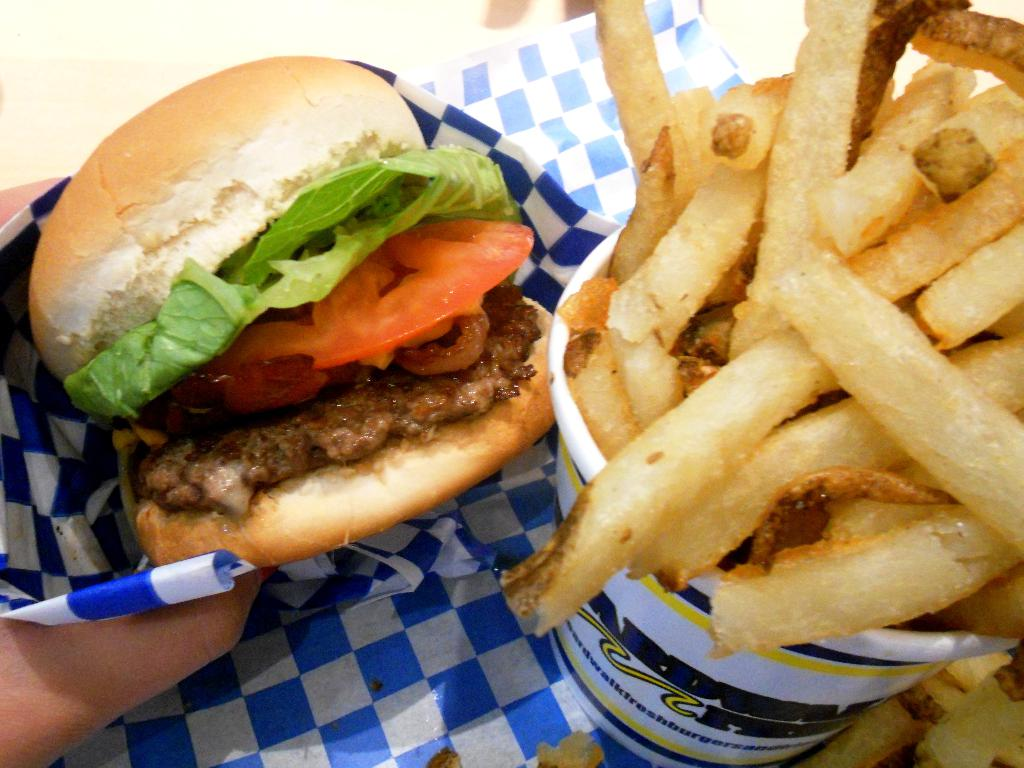French fries: (515, 0, 1023, 645)
